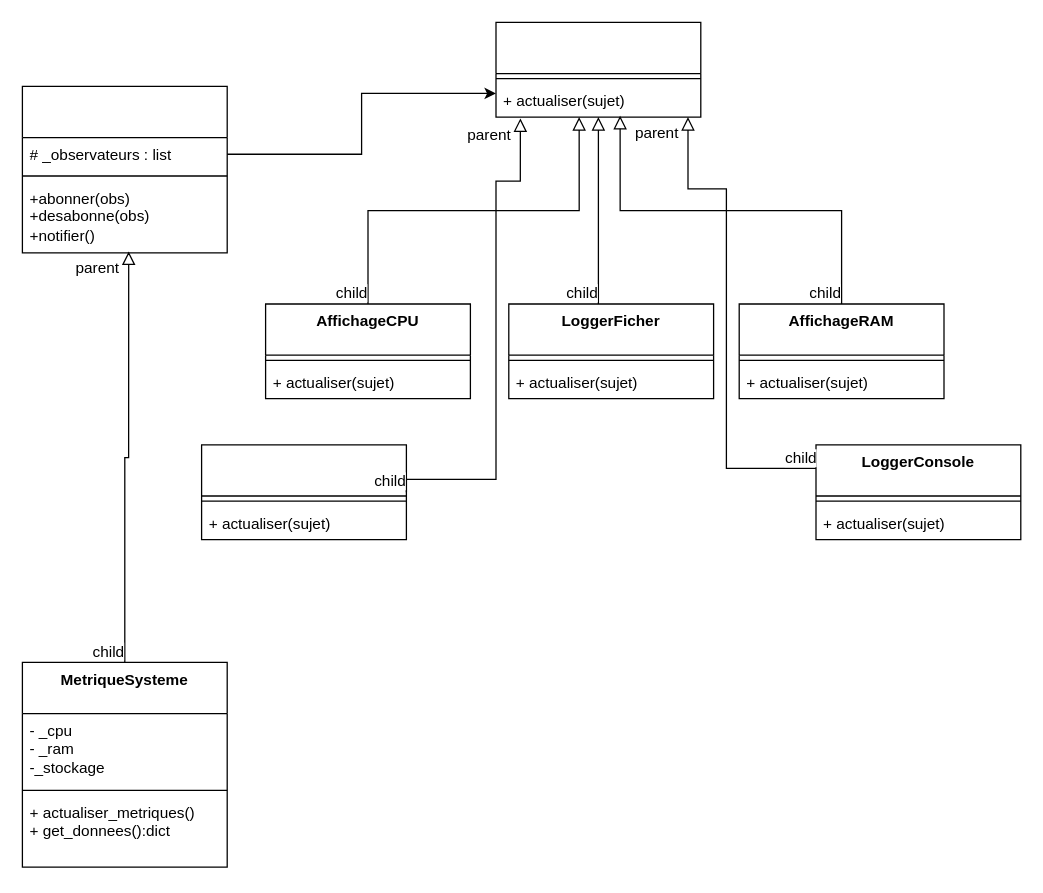
The diagram is 1043 pixels wide and 893 high, and some of its shapes have lost their labels. The box of each missing label's shape, as (x1, y1, x2, y2) in pixels:
"Interface" Observateur: (495, 21, 701, 117)
"Interface" Sujet: (21, 85, 227, 253)
AfficageStockage: (200, 444, 406, 540)
